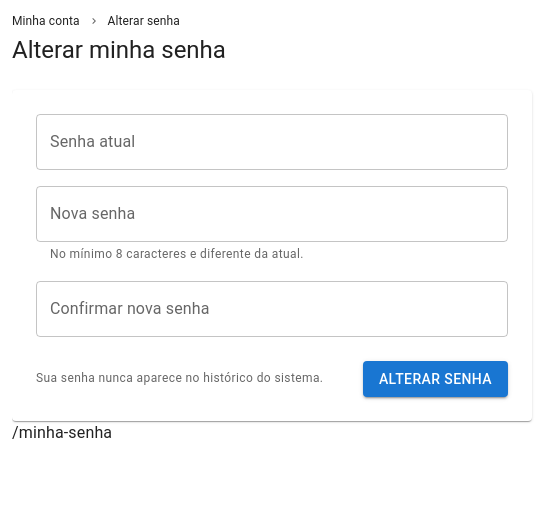
TrocarSenhaPage › não envia com dados inválidos e diz o motivo
In the password field labelled "Senha atual": {"x": 272, "y": 142} top-left (36, 114), bottom-right (508, 170), type "senhaAtual1"
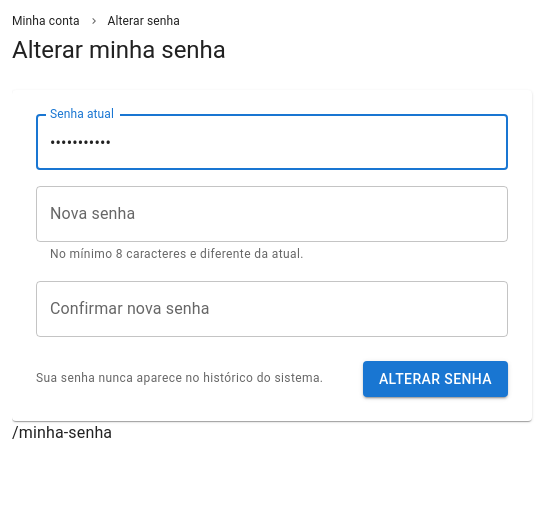
In the password field labelled "Nova senha": {"x": 272, "y": 214} top-left (36, 186), bottom-right (508, 242), type "curta"
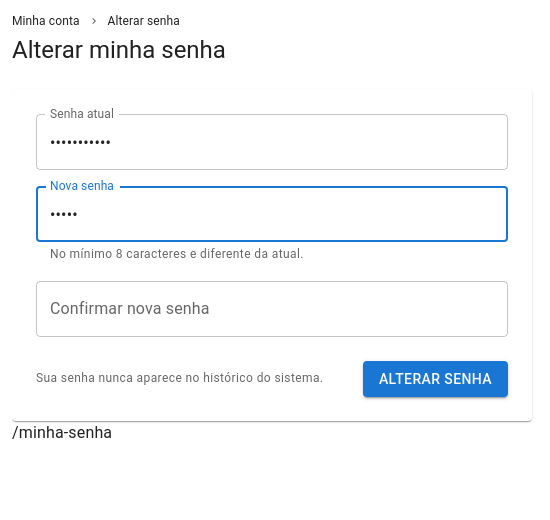
In the password field labelled "Confirmar nova senha": {"x": 272, "y": 309} top-left (36, 281), bottom-right (508, 337), type "curta"
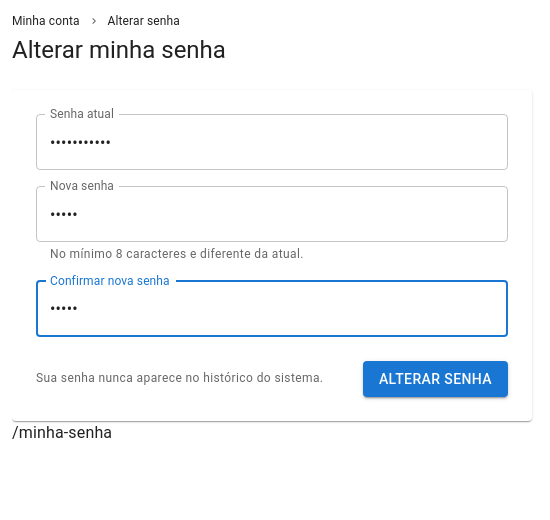
Click the button "Alterar senha": {"x": 435, "y": 379} top-left (363, 361), bottom-right (508, 397)
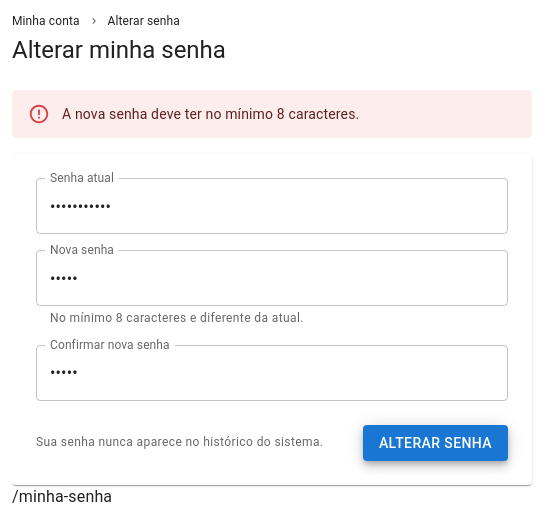
expect the message shows "no mínimo 8 caracteres": met, box top-left (62, 106), bottom-right (359, 122)
